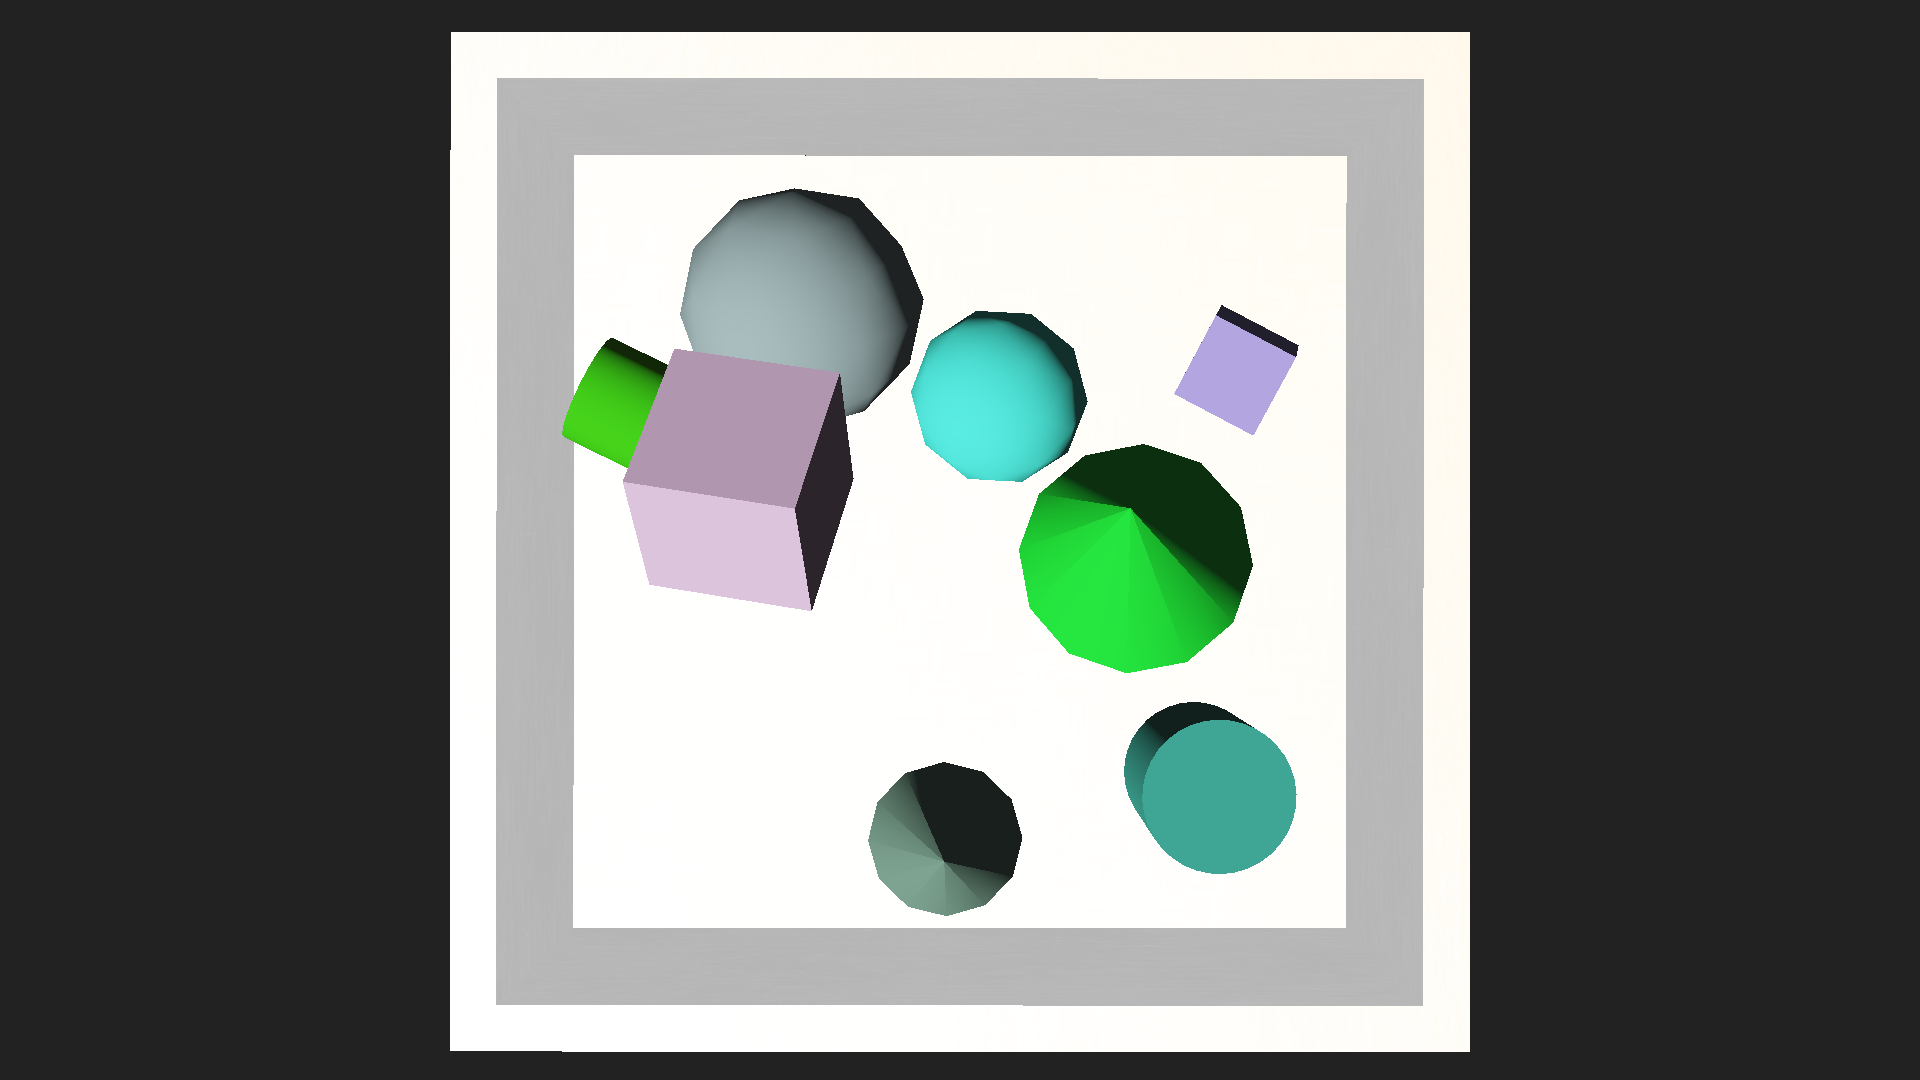3: (617, 338, 855, 615), (1166, 295, 1311, 439)
cone: (1124, 702, 1295, 873)
cylinder: (957, 335, 1331, 731), (866, 767, 1019, 936)
sphere: (679, 185, 923, 429), (909, 307, 1087, 485)
